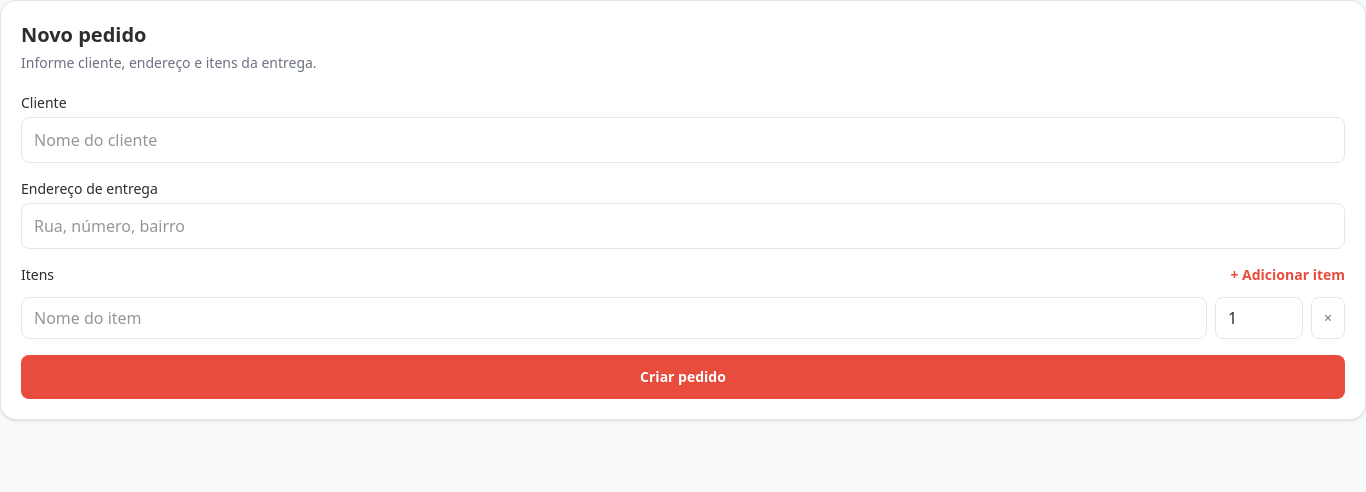
Test: PedidoForm › mostra alerta de erro quando a criacao falha
The image size is (1366, 492).
Type "Maria" into the field with placeholder "Nome do cliente" at {"x": 683, "y": 140}, box left=21, top=117, right=1345, bottom=163
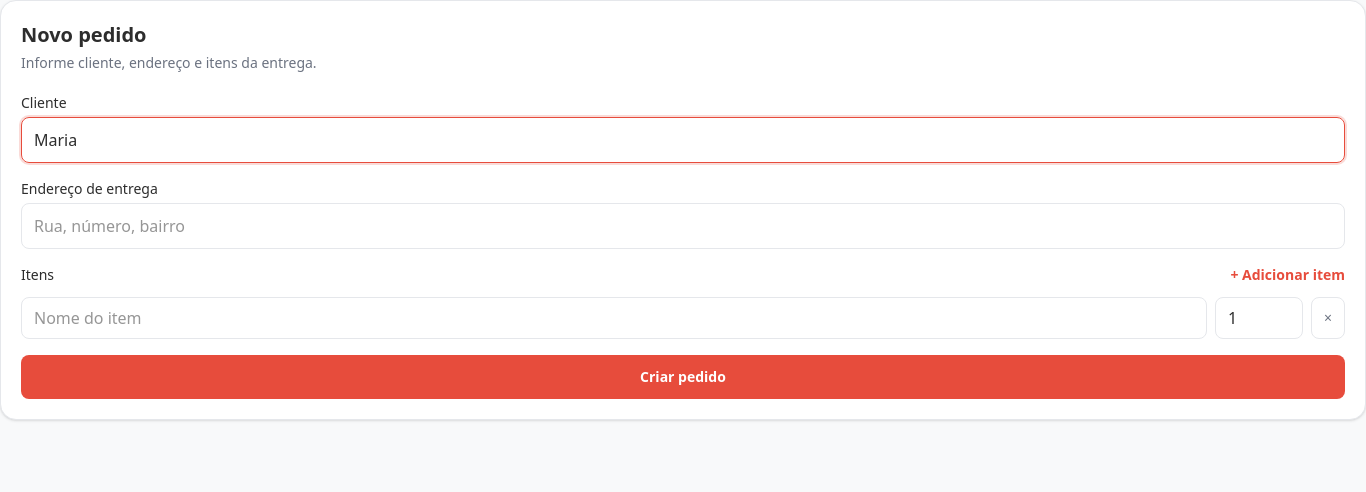
Type "Rua A" into the field with placeholder "Rua, número, bairro" at {"x": 683, "y": 226}, box left=21, top=203, right=1345, bottom=249
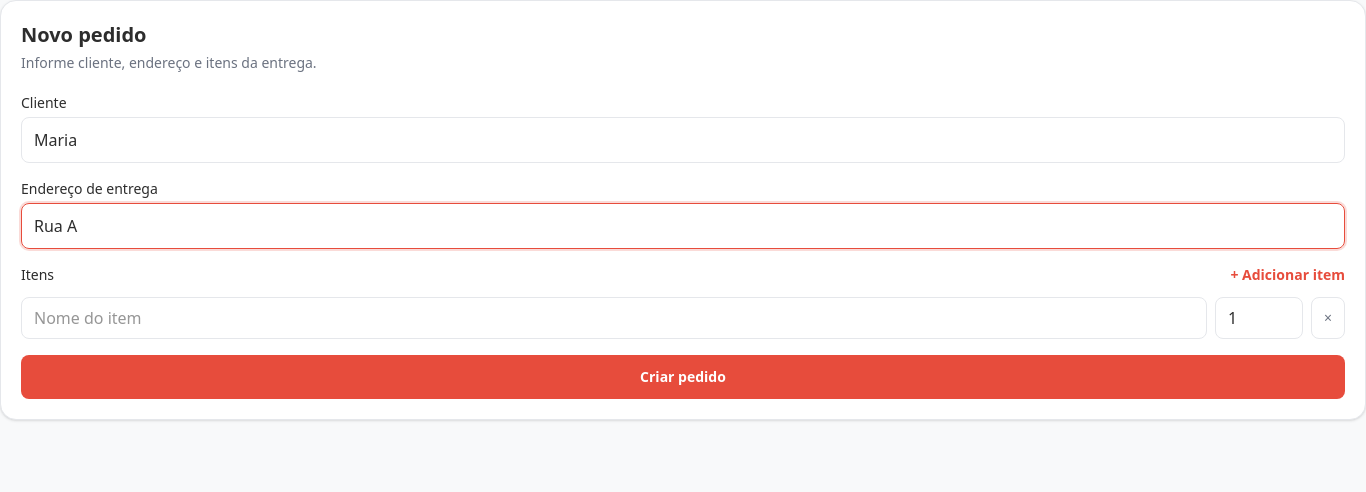
Type "Pizza" into the field with placeholder "Nome do item" at {"x": 614, "y": 318}, box left=21, top=297, right=1207, bottom=339
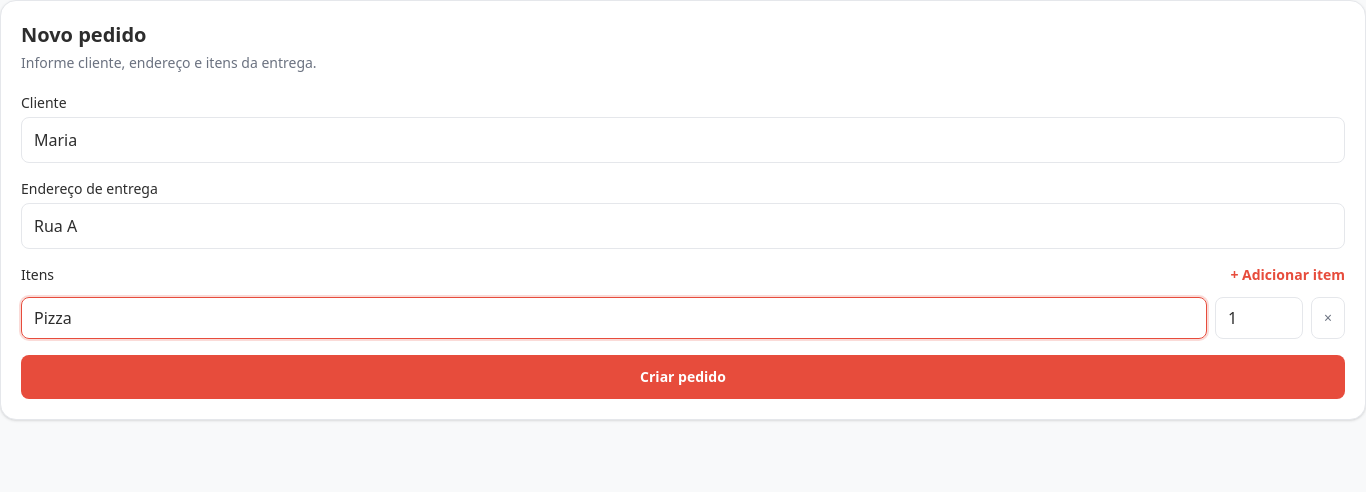
Click the button "Criar pedido" at {"x": 683, "y": 377}, box left=21, top=355, right=1345, bottom=399
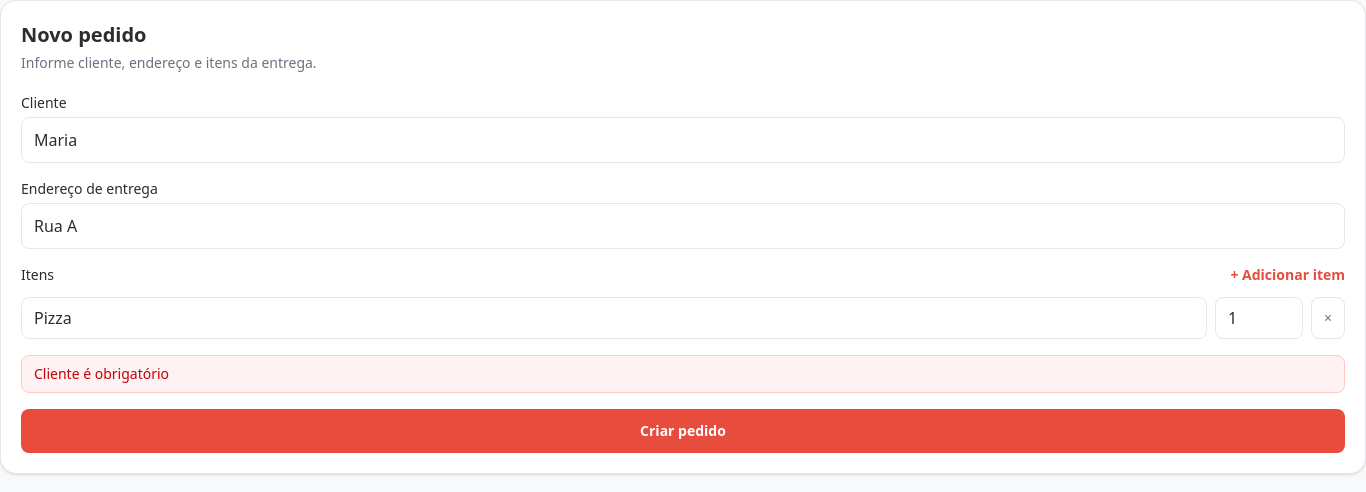
expect the text "Cliente é obrigatório" is shown: met, box left=21, top=355, right=1345, bottom=393
